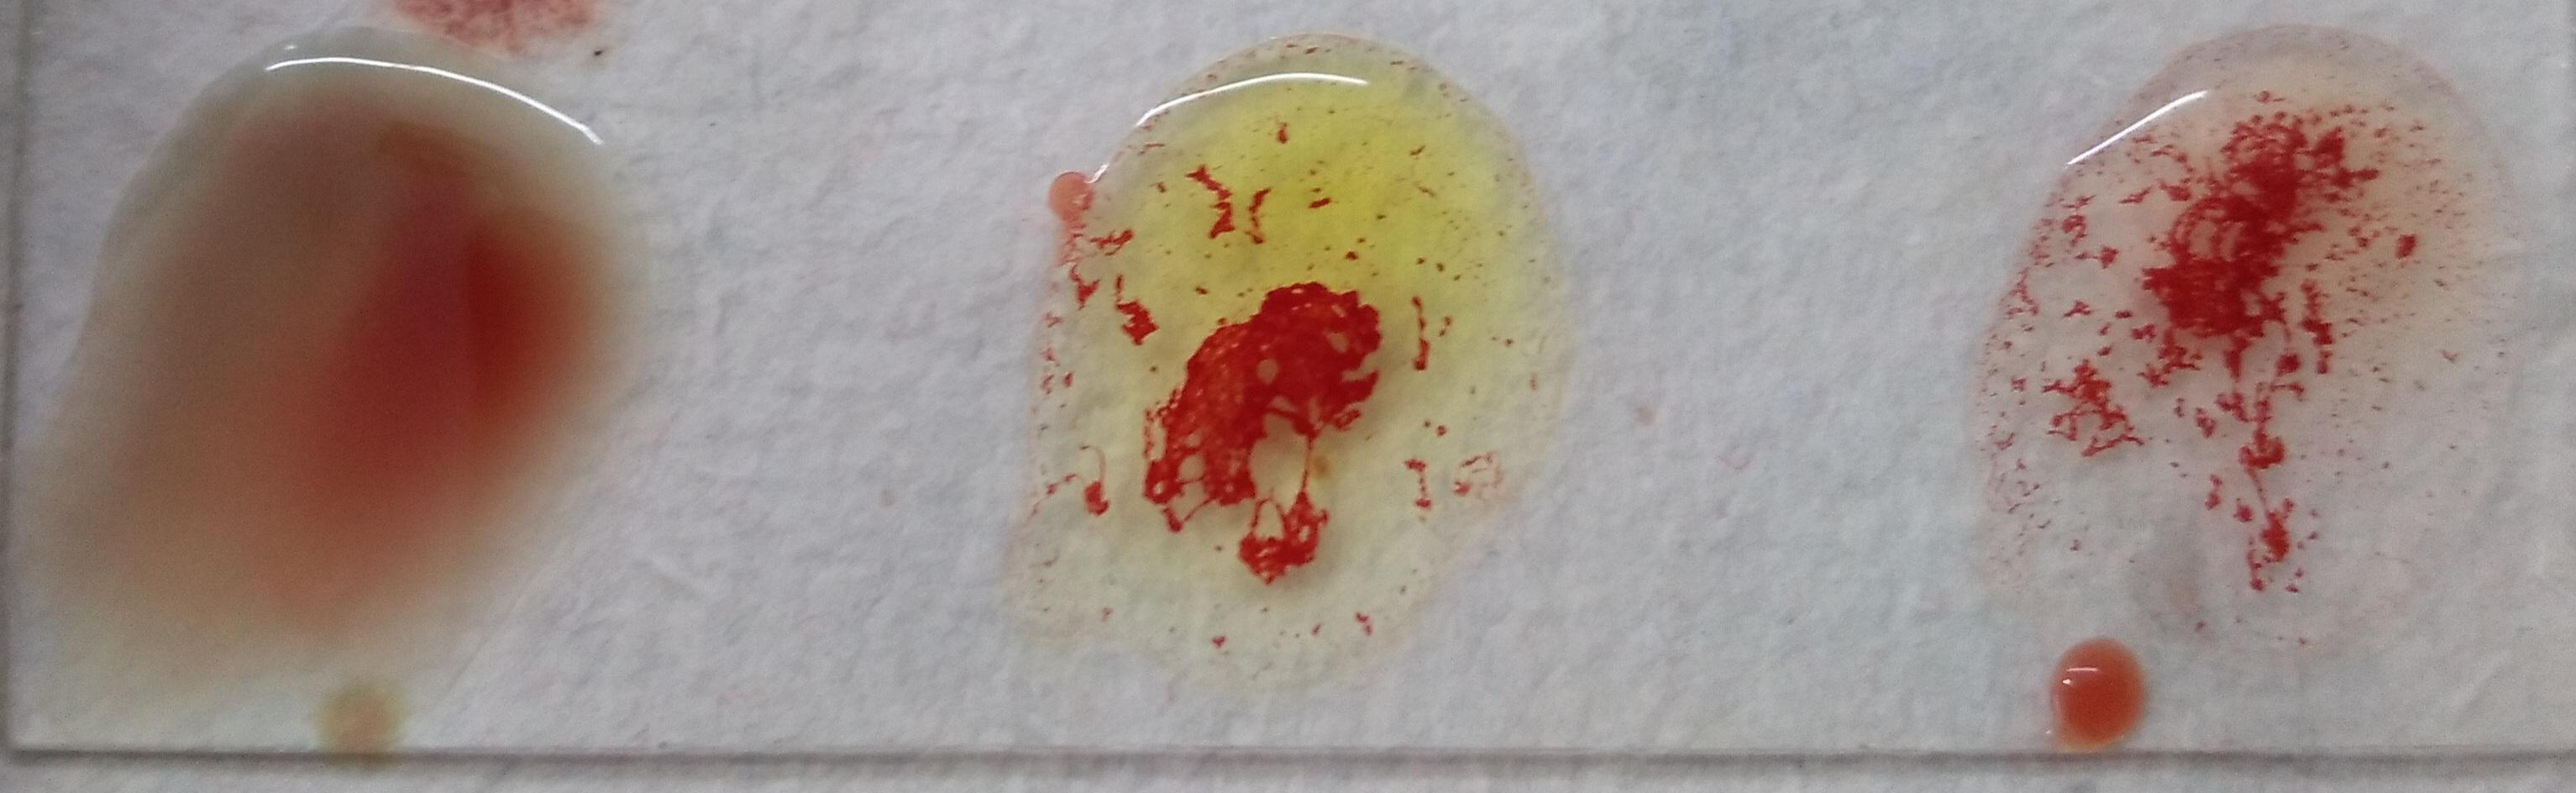B: (1050, 43, 1538, 686)
D: (2008, 43, 2520, 711)
